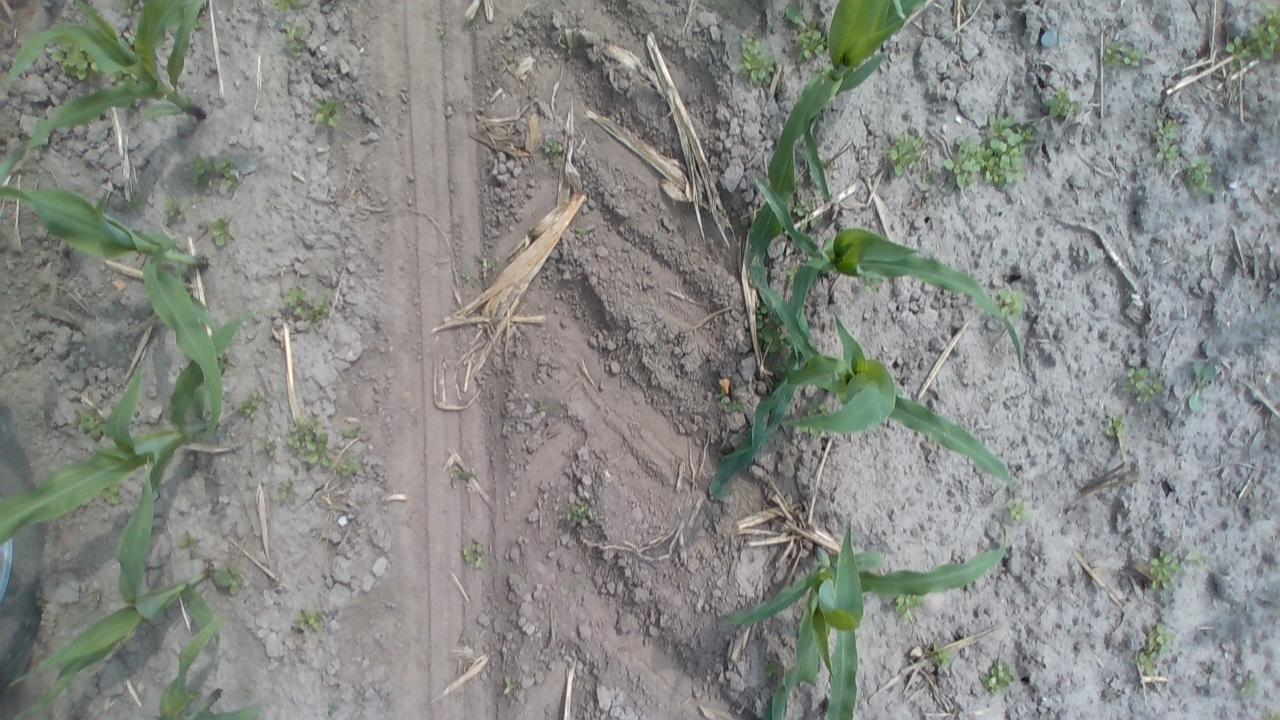Maize: (706, 275, 1026, 501), (0, 308, 284, 556), (742, 0, 929, 366), (7, 450, 227, 720), (0, 185, 227, 446), (720, 516, 1009, 714), (750, 172, 1026, 378), (2, 1, 210, 188), (152, 611, 268, 720)
Weeds: (939, 108, 1042, 197), (982, 111, 1040, 192), (287, 415, 335, 470), (882, 127, 929, 182), (280, 285, 336, 329), (1134, 621, 1176, 679), (738, 36, 782, 88), (186, 154, 243, 194), (52, 42, 106, 84), (942, 138, 984, 190), (106, 29, 142, 86), (1123, 365, 1168, 408), (754, 304, 791, 356), (1186, 357, 1220, 413), (1248, 1, 1278, 64), (1145, 548, 1183, 596), (67, 399, 106, 442), (1151, 116, 1183, 166), (210, 560, 250, 599), (1100, 40, 1147, 72), (1183, 154, 1217, 198), (980, 656, 1016, 696), (1048, 86, 1082, 124), (891, 592, 929, 626), (459, 534, 492, 572), (794, 29, 828, 64), (290, 605, 328, 636), (278, 26, 312, 60), (996, 286, 1028, 322), (314, 94, 346, 130), (562, 496, 594, 529), (208, 215, 238, 248), (1224, 36, 1252, 71), (237, 390, 269, 420), (538, 136, 566, 168), (1103, 412, 1129, 445), (793, 198, 818, 232), (926, 644, 953, 674), (178, 532, 204, 563), (1236, 672, 1261, 704), (112, 188, 145, 212), (337, 452, 364, 480), (782, 1, 808, 30), (1182, 548, 1211, 574), (498, 675, 528, 700), (97, 481, 125, 507), (161, 195, 187, 223), (720, 393, 746, 420), (1004, 498, 1030, 524), (266, 0, 310, 15), (272, 479, 297, 504), (801, 400, 832, 420), (337, 422, 367, 442), (765, 657, 786, 683), (709, 481, 735, 502), (864, 276, 888, 297), (258, 435, 279, 458), (448, 463, 474, 481), (456, 265, 478, 286), (920, 166, 939, 187), (531, 399, 550, 418), (784, 264, 802, 284), (482, 252, 499, 273), (117, 0, 135, 15), (1264, 707, 1277, 720)
